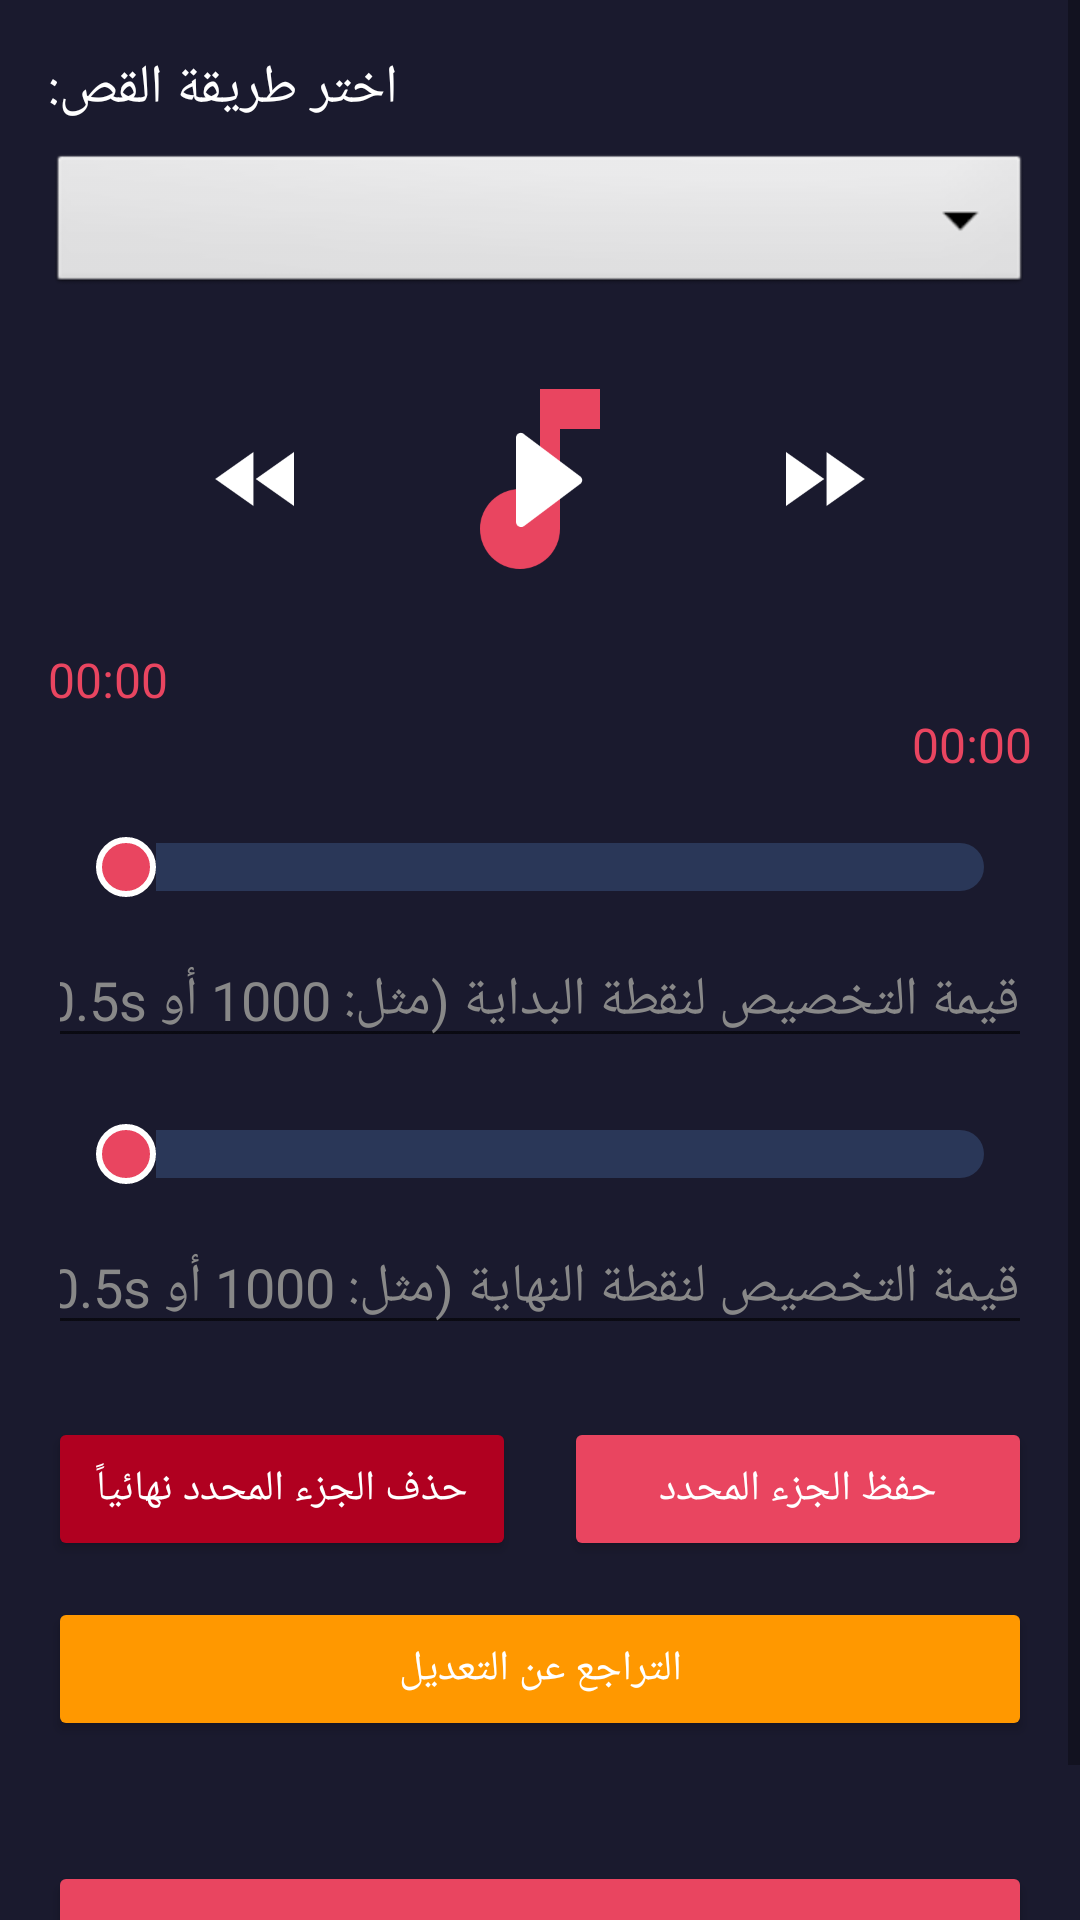

Screen size 1080x1920. Icon name, then its center in pixels as (x,y):
تأخير 5 ثواني: (254,479)
تشغيل أو إيقاف مؤقت: (540,479)
تقديم 5 ثواني: (825,479)
